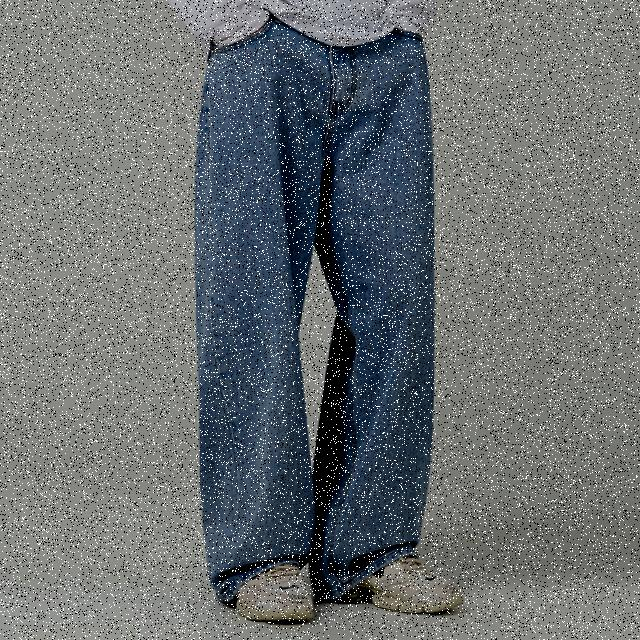Blouse_deep: (200, 26, 432, 572)
